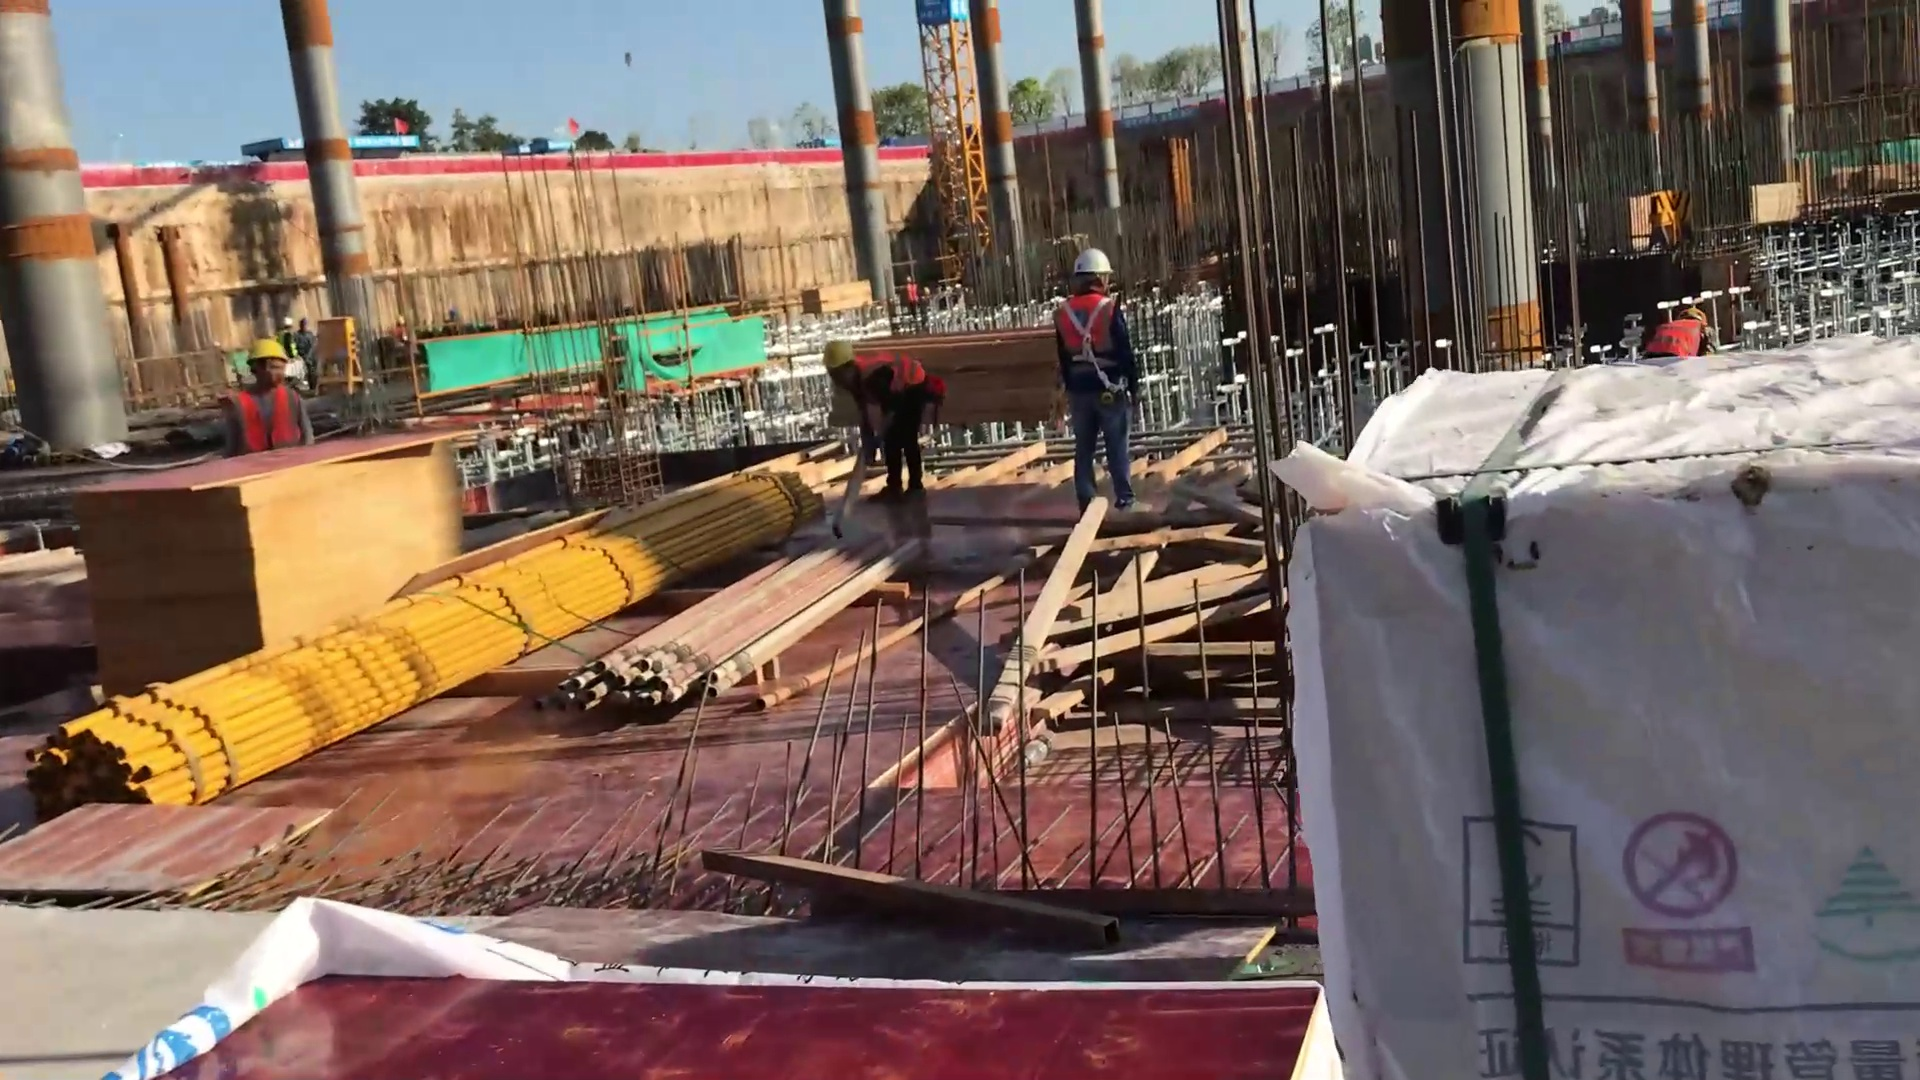helmet: (238, 325, 292, 375), (1068, 240, 1118, 284), (822, 336, 858, 380)
person: (1043, 238, 1158, 518), (811, 325, 949, 527), (210, 326, 318, 465)
vest: (1049, 291, 1135, 408), (224, 384, 306, 454), (854, 344, 940, 406)
